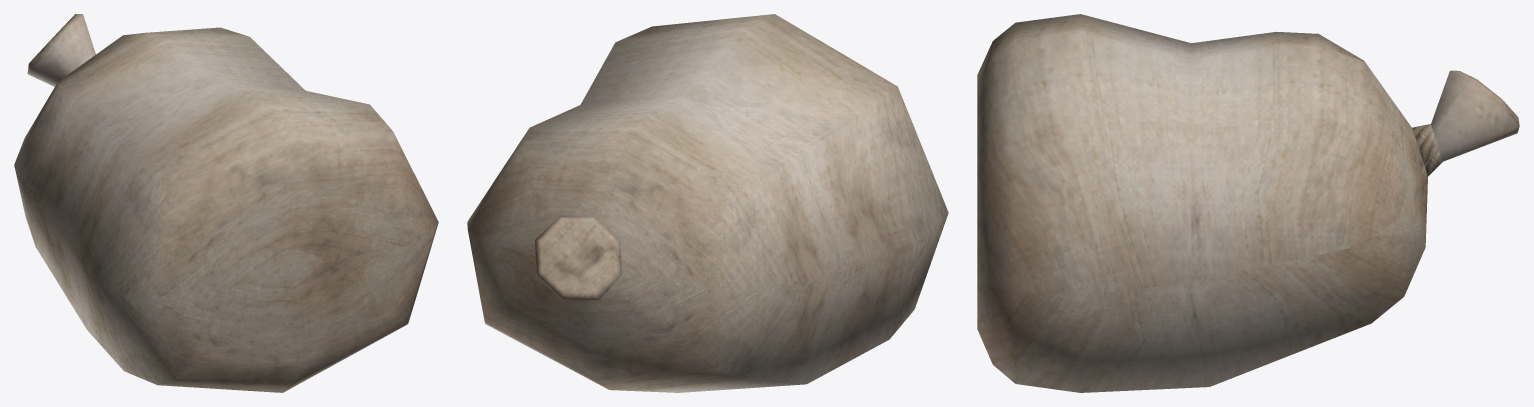
The model's file is Bag_Closed_A.fbx.
3 renders of one model, left to right at view 1: azimuth 30°, elevation 25°; view 2: azimuth 150°, elevation 25°; view 3: azimuth 270°, elevation 25°, orthographic. The views are drawn at different scales.
Parts seen in each view (by area): view 1: Bag_Closed_A; view 2: Bag_Closed_A; view 3: Bag_Closed_A.
Part boxes in pixels (x1,y1,x2,y2): Bag_Closed_A: (14,14,438,392); Bag_Closed_A: (467,14,948,392); Bag_Closed_A: (977,14,1519,392).
Size of the model in its own units: 1.02 by 0.8628 by 1.27.
